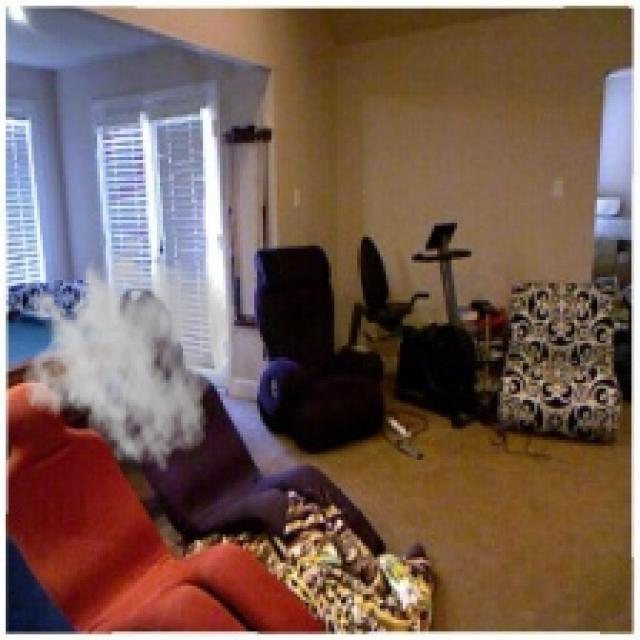Smoke: (20, 220, 237, 474)
